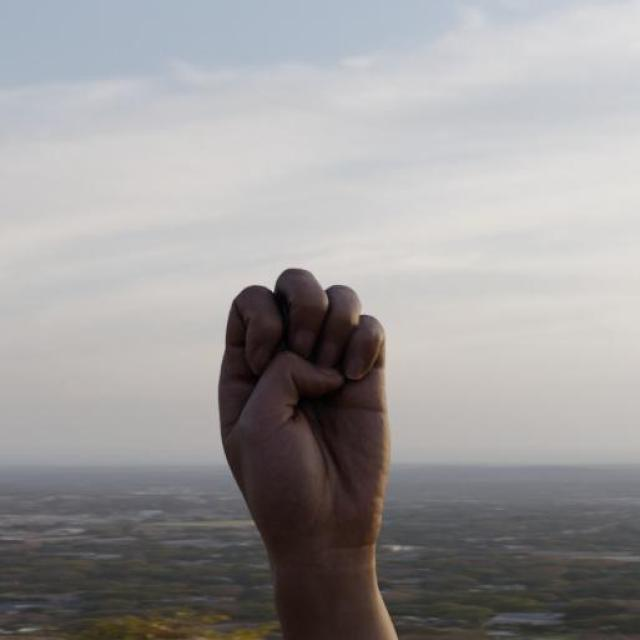E: (213, 264, 395, 558)
